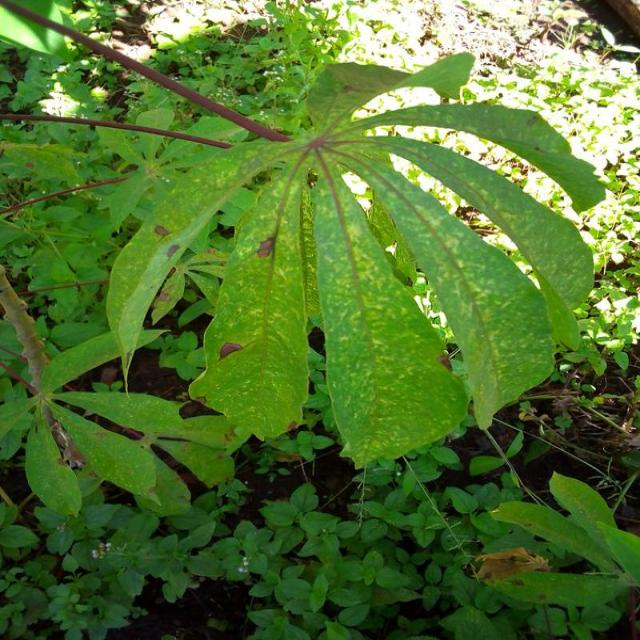cassava leaf: (101, 50, 603, 469), (311, 150, 471, 470), (189, 152, 311, 442)
